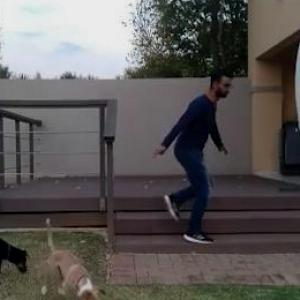land: (106, 59, 241, 255)
